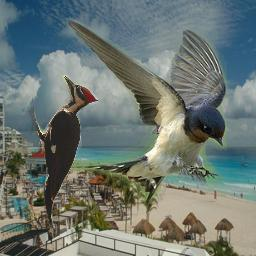Swallow: (49, 15, 227, 204)
Woodpecker: (28, 75, 98, 229)
